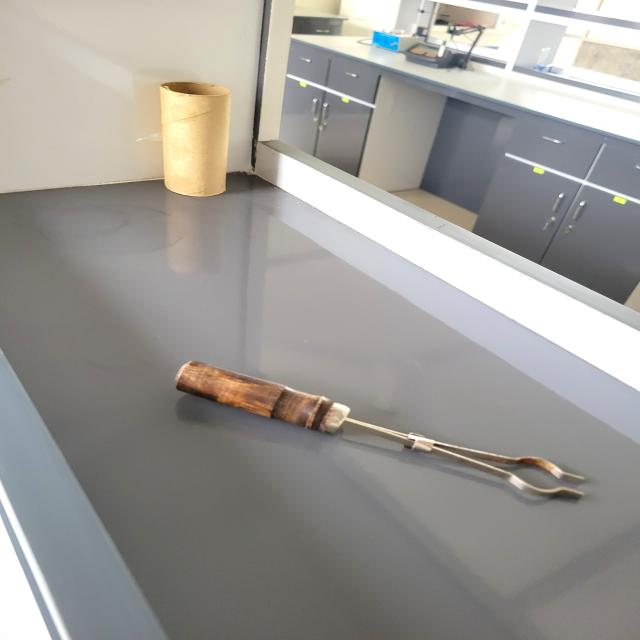TestTube_Holder: (138, 345, 594, 531)
